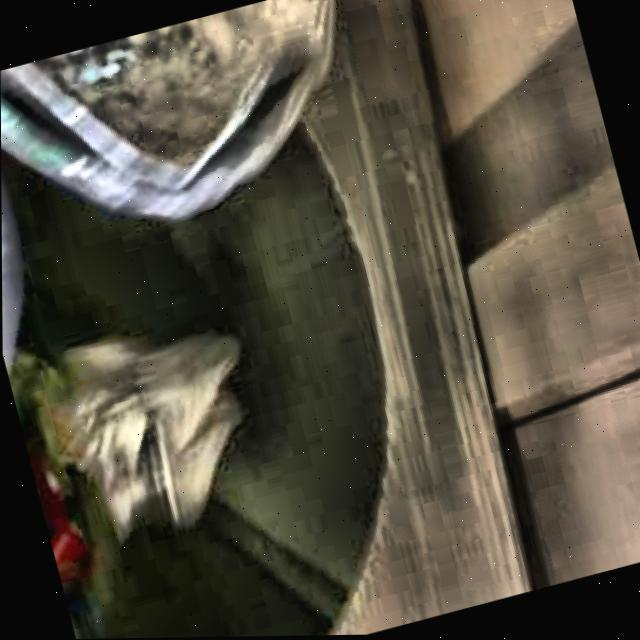metal: (0, 0, 332, 219), (30, 333, 236, 534)
